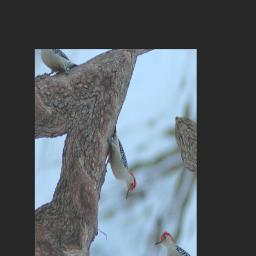Woodpecker: (94, 124, 147, 202)
